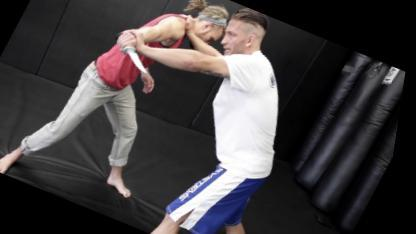knife: (102, 28, 168, 77)
